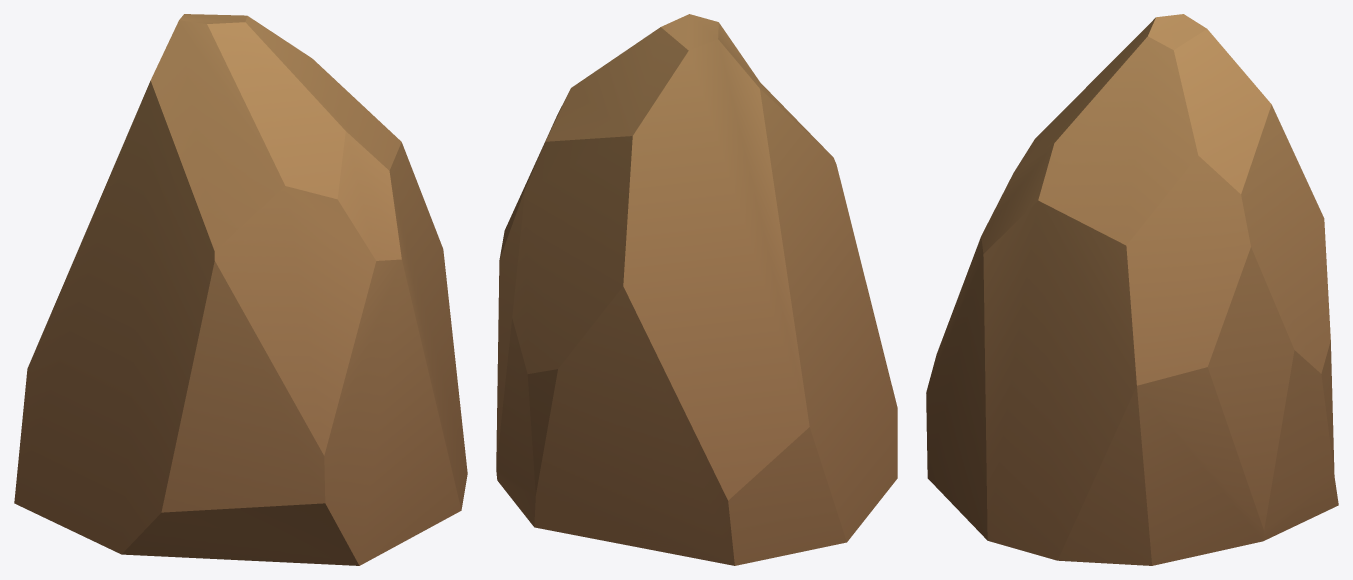
File: desert stone small 5.fbx
3 renders of one model, left to right at view 1: azimuth 30°, elevation 25°; view 2: azimuth 150°, elevation 25°; view 3: azimuth 270°, elevation 25°, orthographic. The views are drawn at different scales.
Visible parts, largest first — view 1: desert stone small 5; view 2: desert stone small 5; view 3: desert stone small 5.
Boxes of the visible parts, bbox=[...] form: desert stone small 5: bbox=[14, 14, 467, 565]; desert stone small 5: bbox=[496, 14, 897, 565]; desert stone small 5: bbox=[926, 14, 1338, 565].
Bounding box in the file's own units: 109 × 125 × 105.
